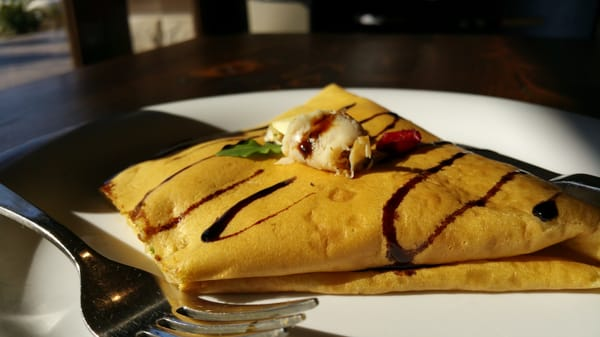sandwich: (334, 83, 600, 218)
